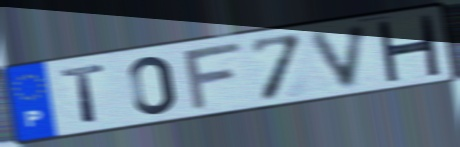0: (126, 55, 177, 118)
7: (251, 30, 303, 103)
F: (181, 39, 246, 114)
H: (374, 14, 443, 83)
T: (58, 62, 109, 126)
V: (306, 21, 374, 91)
